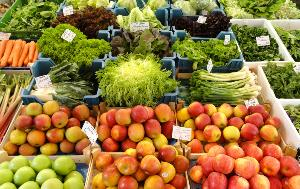apple: (182, 102, 282, 156), (0, 105, 100, 157), (188, 146, 299, 189), (93, 150, 187, 189), (99, 108, 181, 150), (0, 154, 89, 189), (140, 155, 161, 177), (213, 155, 235, 175), (53, 157, 74, 176), (131, 105, 149, 124), (65, 127, 83, 143), (188, 102, 204, 118)
carrot: (0, 31, 46, 67), (12, 39, 22, 67)
